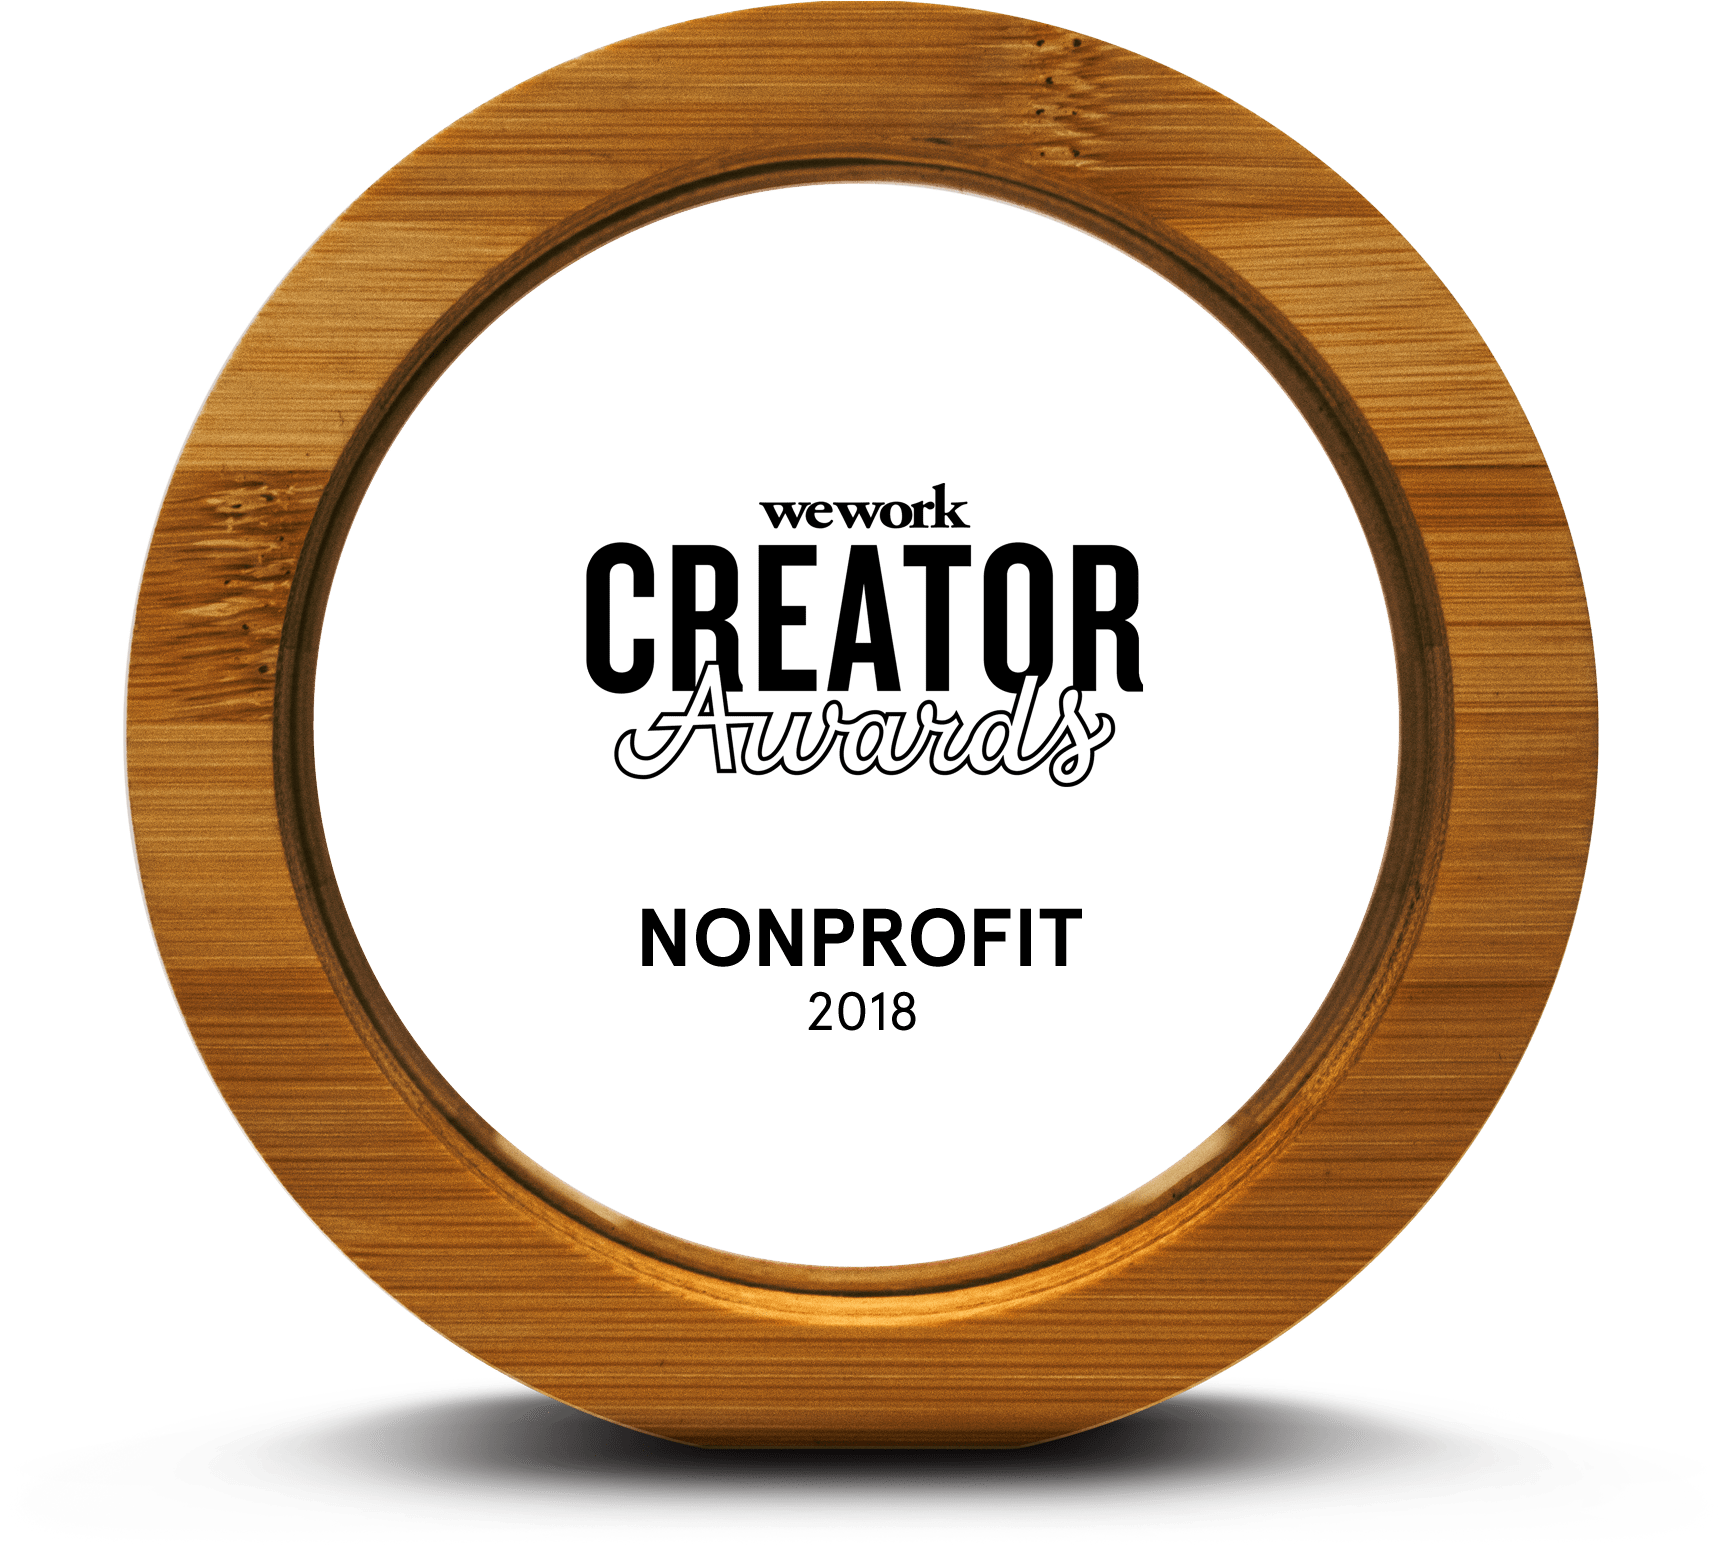wework: (754, 473, 980, 534)
